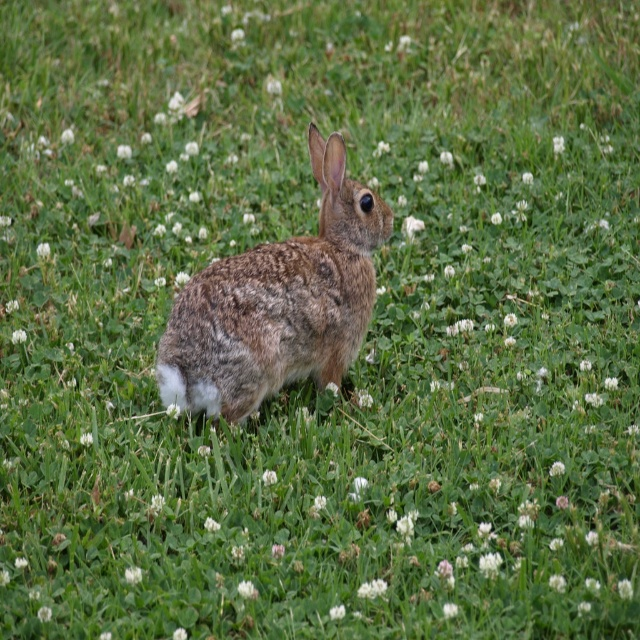Rabbit: (154, 123, 396, 446)
